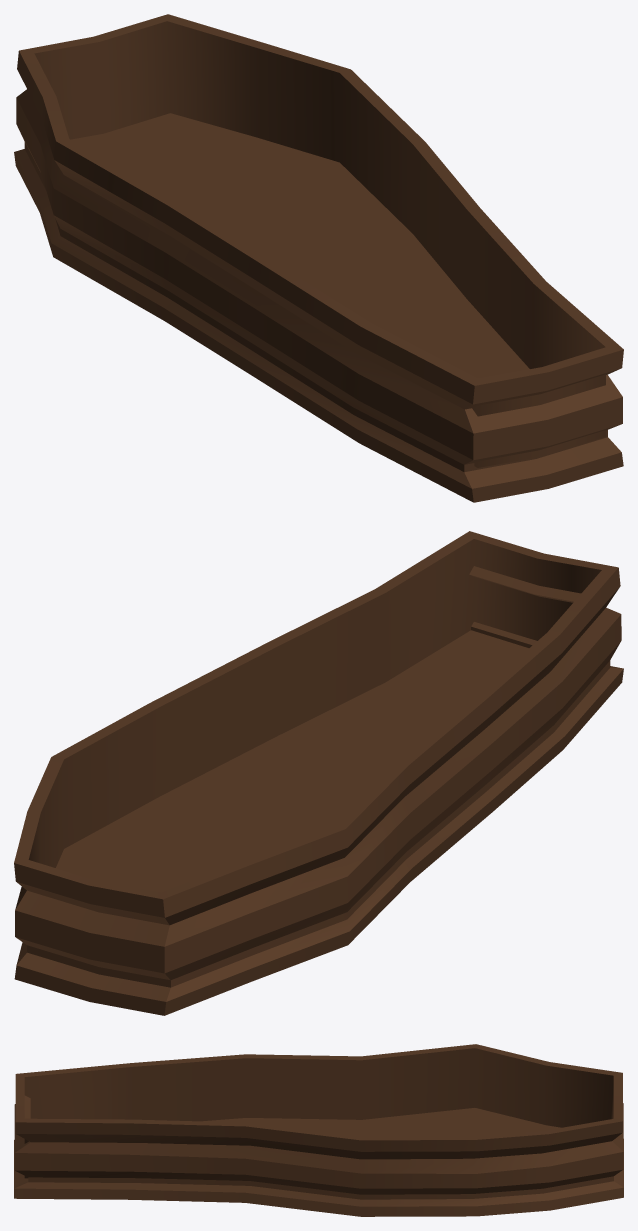
File: CoffinOpen.fbx
3 views of the same model, one above another, from view 1: azimuth 30°, elevation 25°; view 2: azimuth 150°, elevation 25°; view 3: azimuth 270°, elevation 25° (orthographic). The views are drawn at different scales.
Parts seen in each view (by area): view 1: Coffin_Open_Bottom; view 2: Coffin_Open_Bottom; view 3: Coffin_Open_Bottom.
Boxes of the visible parts, left/top/right/bottom form: Coffin_Open_Bottom: left=14, top=14, right=623, bottom=502; Coffin_Open_Bottom: left=14, top=531, right=623, bottom=1015; Coffin_Open_Bottom: left=14, top=1044, right=623, bottom=1216.
Bounding box in the file's own units: 7.08 × 2.92 × 18.76.
